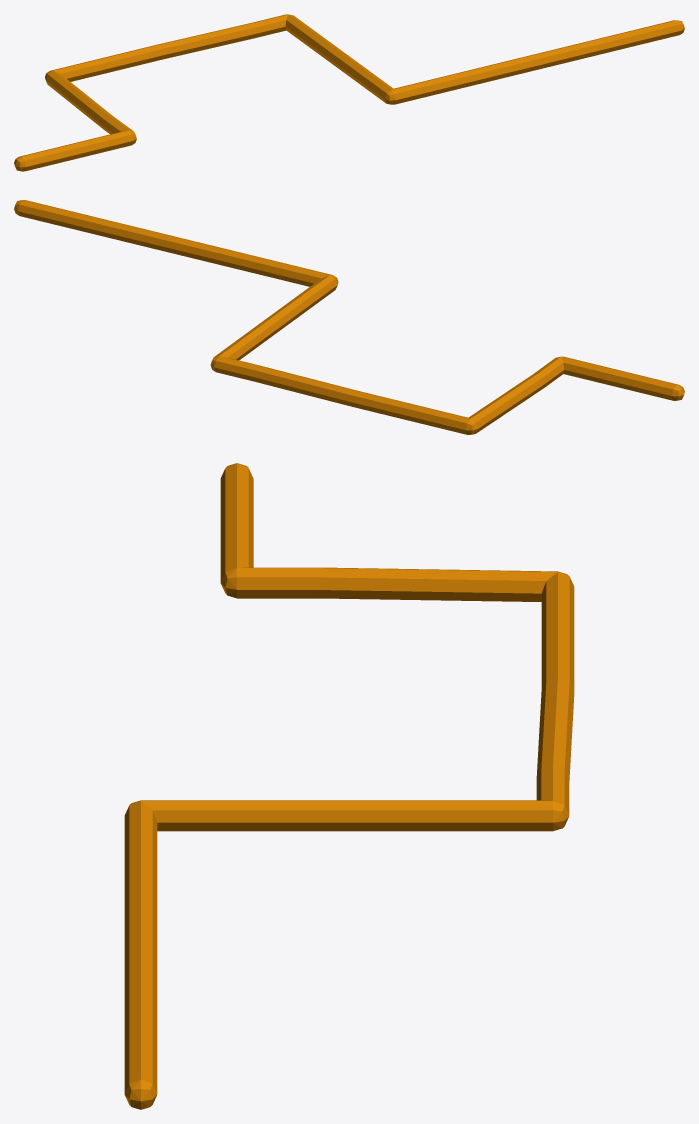
The picture shows the model from 3 angles, top to bottom: view 1: azimuth 30°, elevation 25°; view 2: azimuth 150°, elevation 25°; view 3: azimuth 270°, elevation 25°; orthographic projection. The views are drawn at different scales.
Size of the model in its own units: 904 by 20 by 273.
